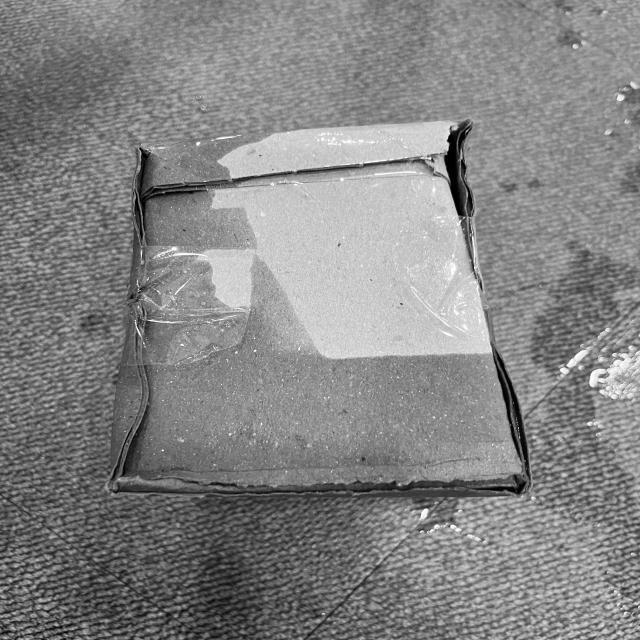wet: (114, 358, 530, 507), (119, 140, 308, 345)
